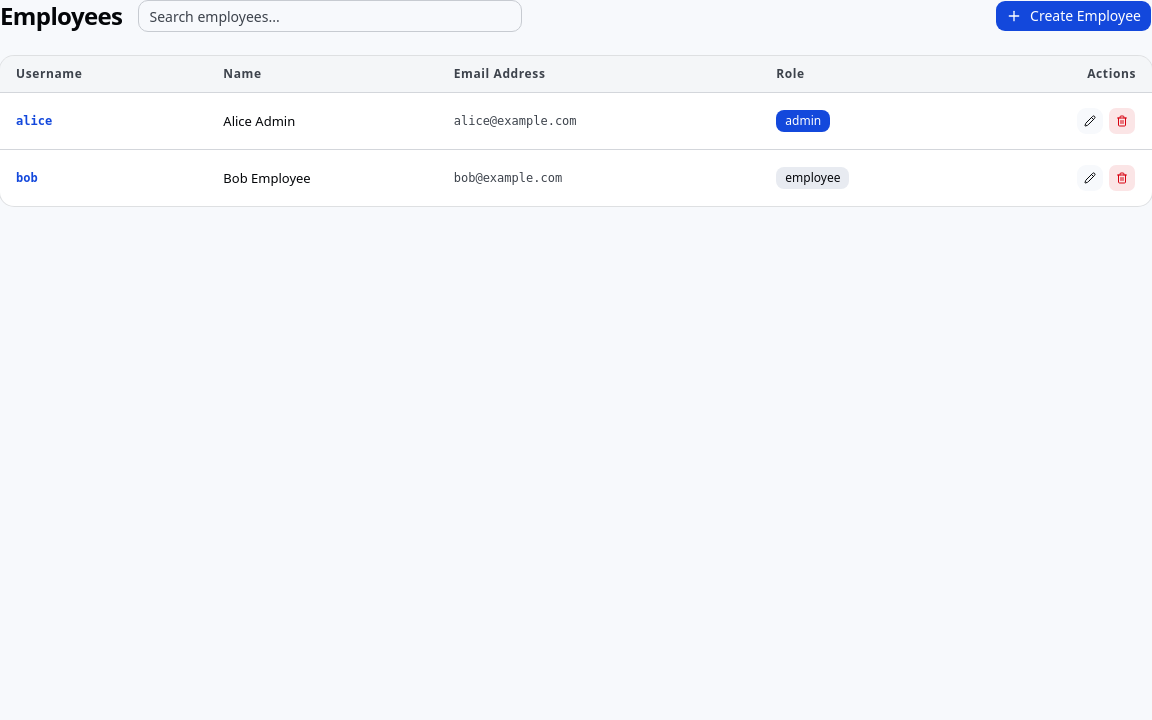
EmployeesTable Component › should render the Create button if current user is an admin
// Clicking it opens the creation popup
Click the button "Create Employee" at (1074, 16), box x1=995 y1=0 x2=1151 y2=32
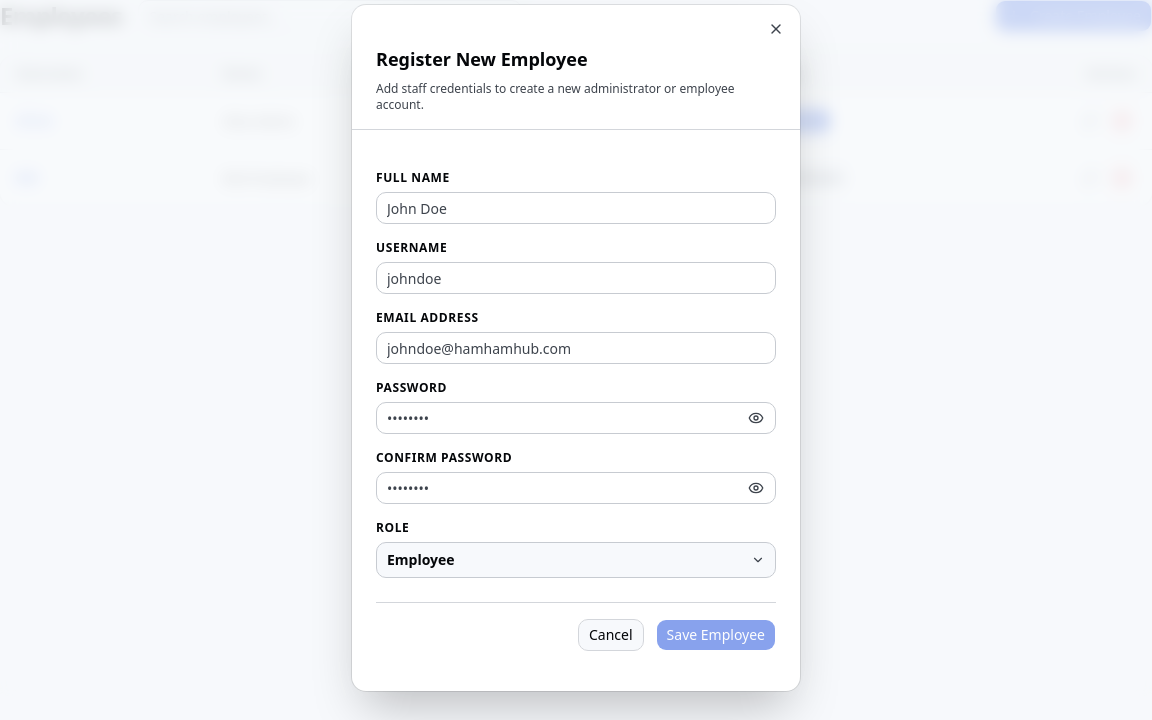
Expected: the text "Register New Employee" is shown, x1=376 y1=47 x2=588 y2=71
